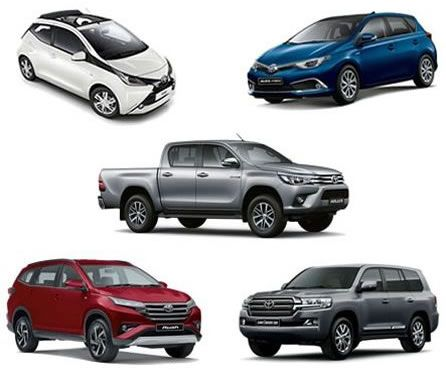car: (98, 140, 349, 238), (7, 259, 202, 363), (239, 264, 439, 359), (248, 12, 437, 105), (18, 10, 175, 119)
